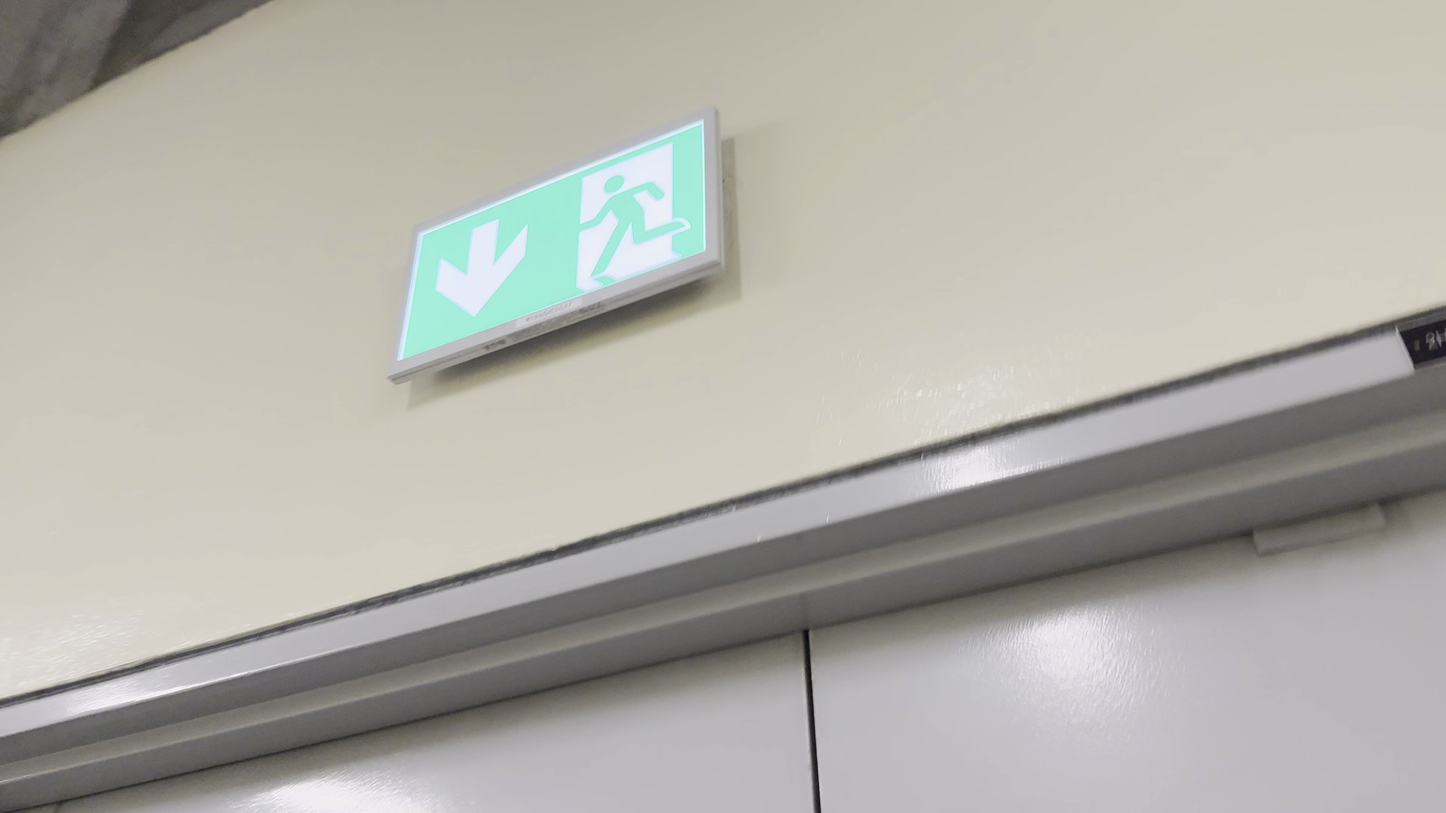emergency_exit: (387, 104, 726, 384)
